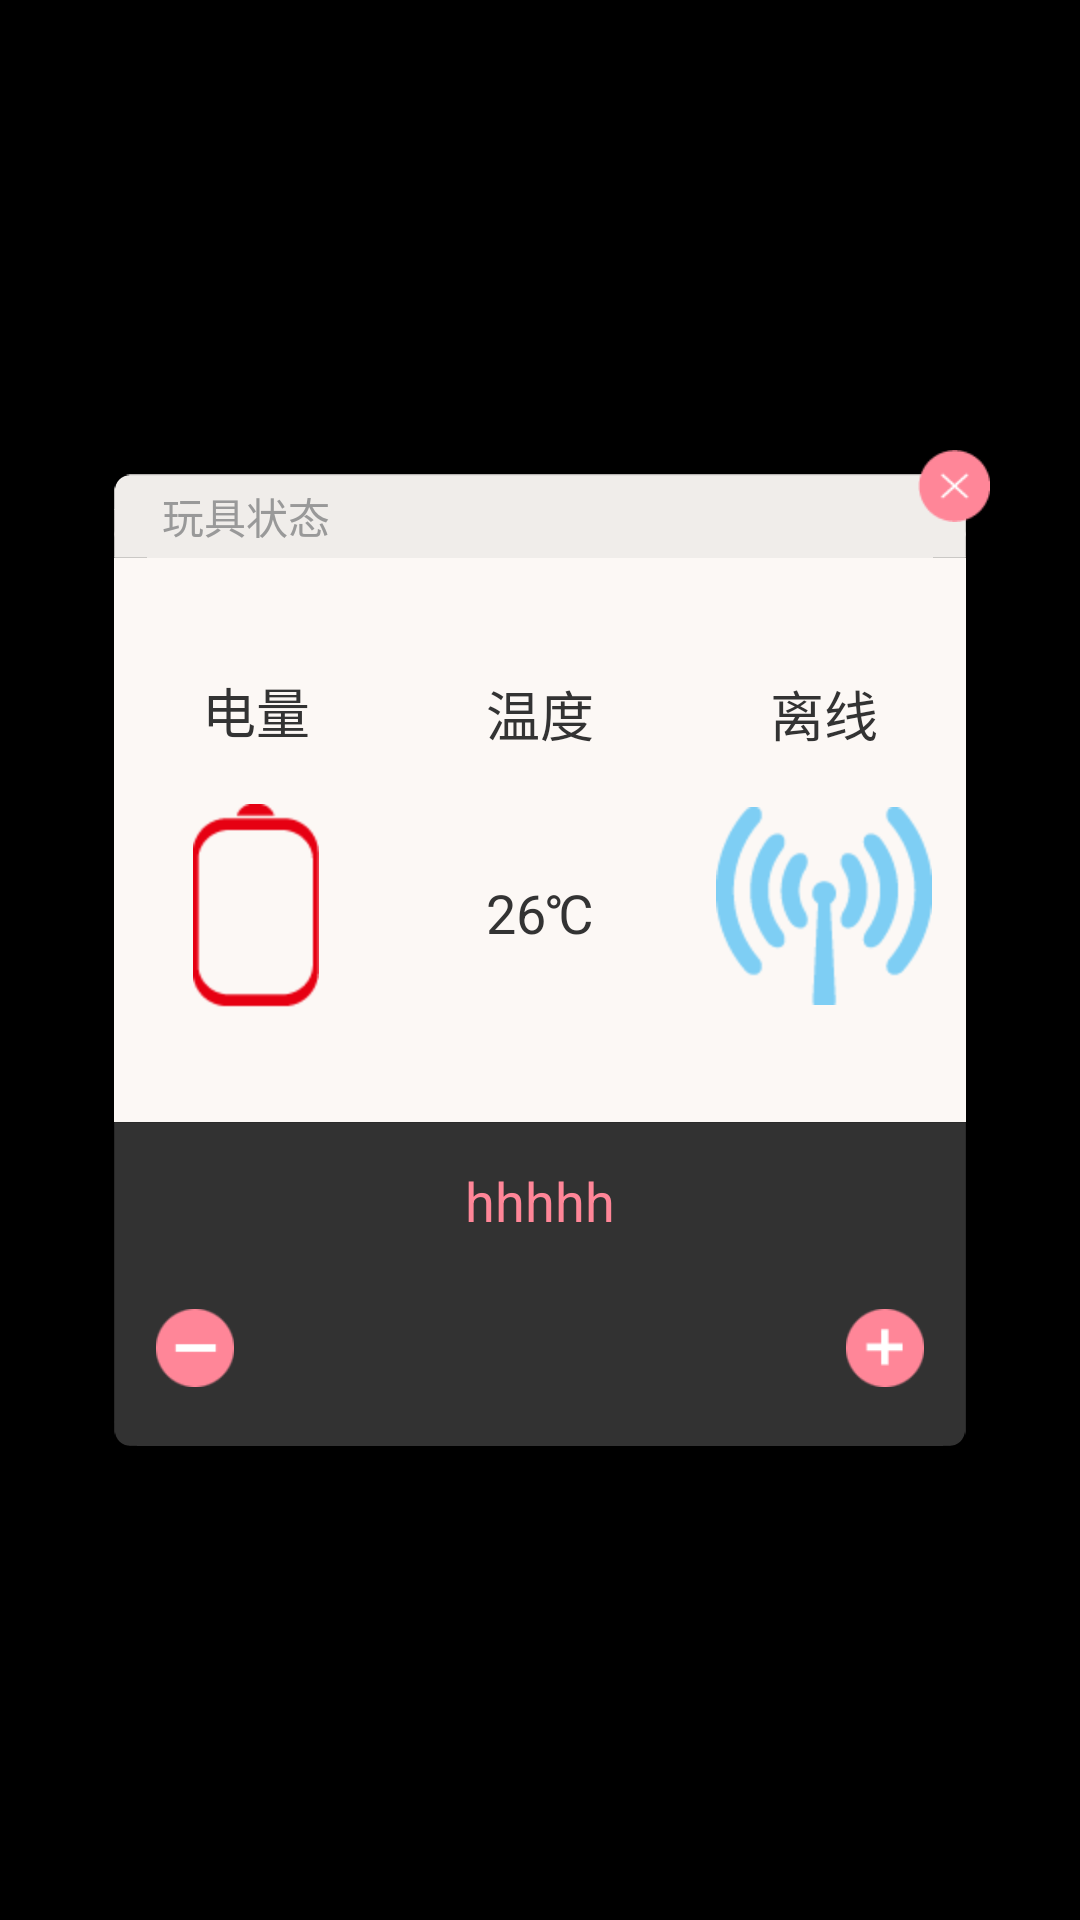

Point at icon controls on the screen. Image size 1080px×1920px, points as (x,y).
toy online: (824,906)
toy state bar close: (954,486)
toy volume down control: (195,1348)
toy volume up control: (885,1348)
